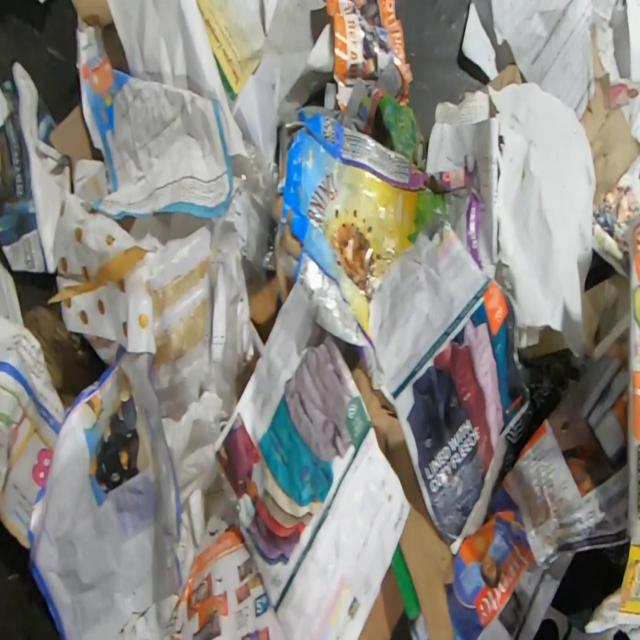cardboard: (249, 102, 484, 405), (351, 358, 456, 640), (0, 61, 73, 273), (22, 302, 111, 410), (47, 100, 105, 185), (358, 563, 411, 640)
rigid_plastic: (231, 136, 278, 221)
